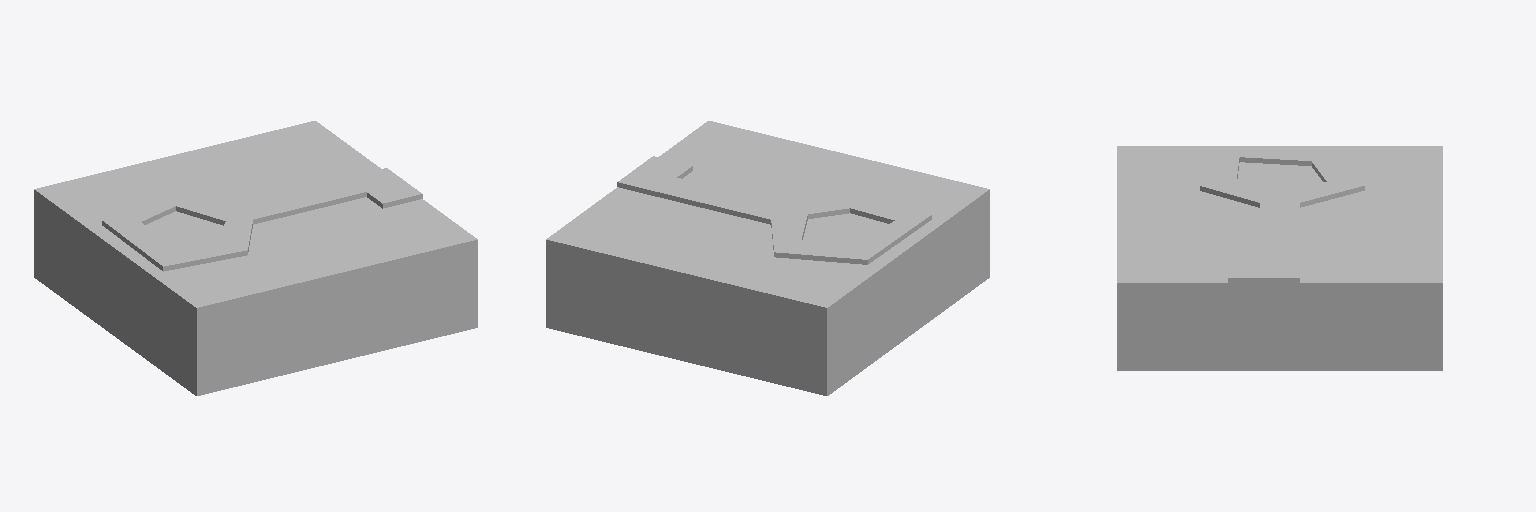
Rendered from key_hole_empty.obj.
The picture shows the model from 3 angles: view 1: azimuth 30°, elevation 25°; view 2: azimuth 150°, elevation 25°; view 3: azimuth 270°, elevation 25°; orthographic projection.
Parts seen in each view (by area): view 1: Cube.001, Cube; view 2: Cube.001, Cube; view 3: Cube.001, Cube.
Part boxes in pixels (bbox=[...]): Cube.001: bbox=[34, 121, 477, 395]; Cube: bbox=[102, 168, 422, 271]; Cube.001: bbox=[546, 121, 989, 395]; Cube: bbox=[617, 156, 931, 264]; Cube.001: bbox=[1117, 146, 1442, 370]; Cube: bbox=[1200, 147, 1364, 301].
Size of the model in its own units: 1 by 0.317 by 1.